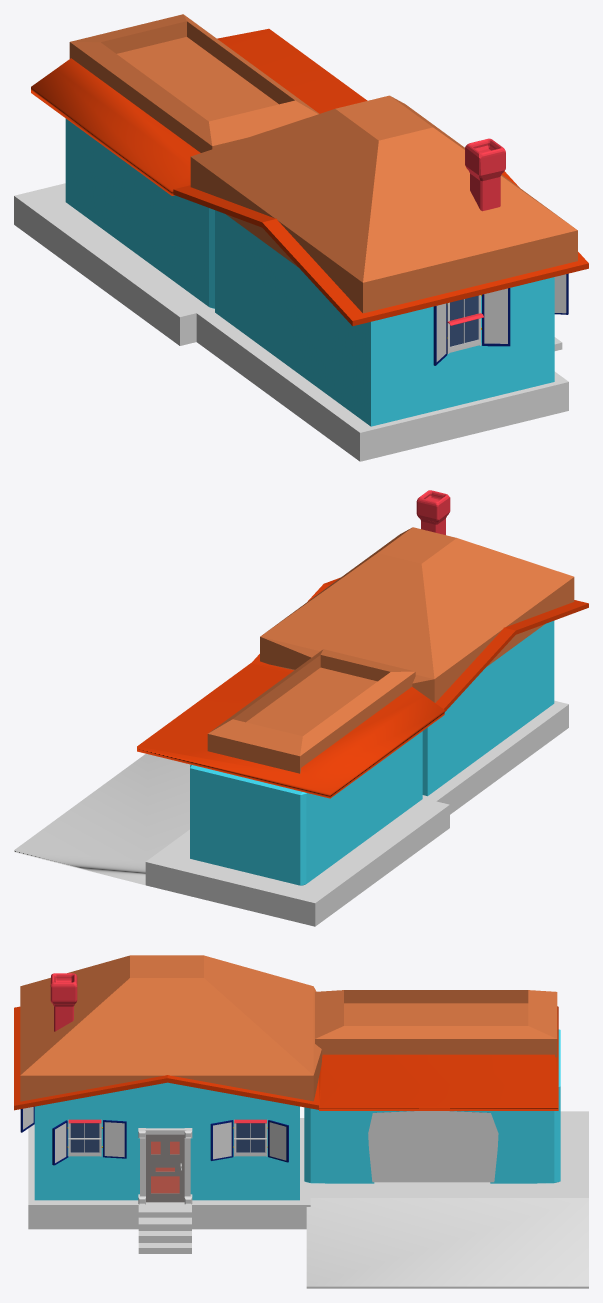
The model's file is github_download1.fbx.
3 renders of one model, top to bottom at view 1: azimuth 30°, elevation 25°; view 2: azimuth 150°, elevation 25°; view 3: azimuth 270°, elevation 25°, orthographic. The views are drawn at different scales.
Visible parts, largest first — view 1: Cube.059, Cube, Cube.032, Cube.087, Cube.085, Cube.083, Cube.082, Cube.060, Cube.068, Cube.074, Cube.081; view 2: Cube.059, Cube.083, Cube.085, Cube.087, Cube, Cube.032, Cube.082, Cube.060; view 3: Cube.059, Cube.083, Cube, Cube.087, Cube.085, Cube.086, Cube.032, Cube.082, Cube.023, Cube.060, Plane, Cube.051 (+8 smaller).
Boxes of the visible parts, bbox=[...] form: Cube.059: bbox=[69, 14, 577, 313]; Cube: bbox=[215, 210, 554, 426]; Cube.032: bbox=[196, 309, 568, 461]; Cube.087: bbox=[31, 28, 367, 195]; Cube.085: bbox=[65, 118, 214, 308]; Cube.083: bbox=[14, 183, 213, 345]; Cube.082: bbox=[173, 171, 588, 326]; Cube.060: bbox=[465, 138, 505, 211]; Cube.068: bbox=[484, 288, 507, 343]; Cube.074: bbox=[450, 295, 478, 346]; Cube.081: bbox=[436, 303, 446, 361]; Cube.059: bbox=[207, 527, 574, 773]; Cube.083: bbox=[14, 753, 449, 926]; Cube.085: bbox=[190, 731, 422, 885]; Cube.087: bbox=[137, 663, 444, 798]; Cube: bbox=[422, 621, 554, 796]; Cube.032: bbox=[422, 700, 568, 814]; Cube.082: bbox=[251, 577, 588, 711]; Cube.060: bbox=[416, 490, 450, 534]; Cube.059: bbox=[20, 955, 557, 1101]; Cube.083: bbox=[306, 1111, 588, 1288]; Cube: bbox=[34, 1082, 299, 1200]; Cube.087: bbox=[319, 1006, 558, 1110]; Cube.085: bbox=[304, 1029, 560, 1183]; Cube.086: bbox=[368, 1111, 498, 1182]; Cube.032: bbox=[28, 1118, 310, 1229]; Cube.082: bbox=[14, 1006, 320, 1110]; Cube.023: bbox=[146, 1134, 184, 1202]; Cube.060: bbox=[50, 973, 77, 1031]; Plane: bbox=[151, 1141, 179, 1193]; Cube.051: bbox=[70, 1123, 99, 1152].
Size of the model in its own units: 3633 by 2477 by 5719.
